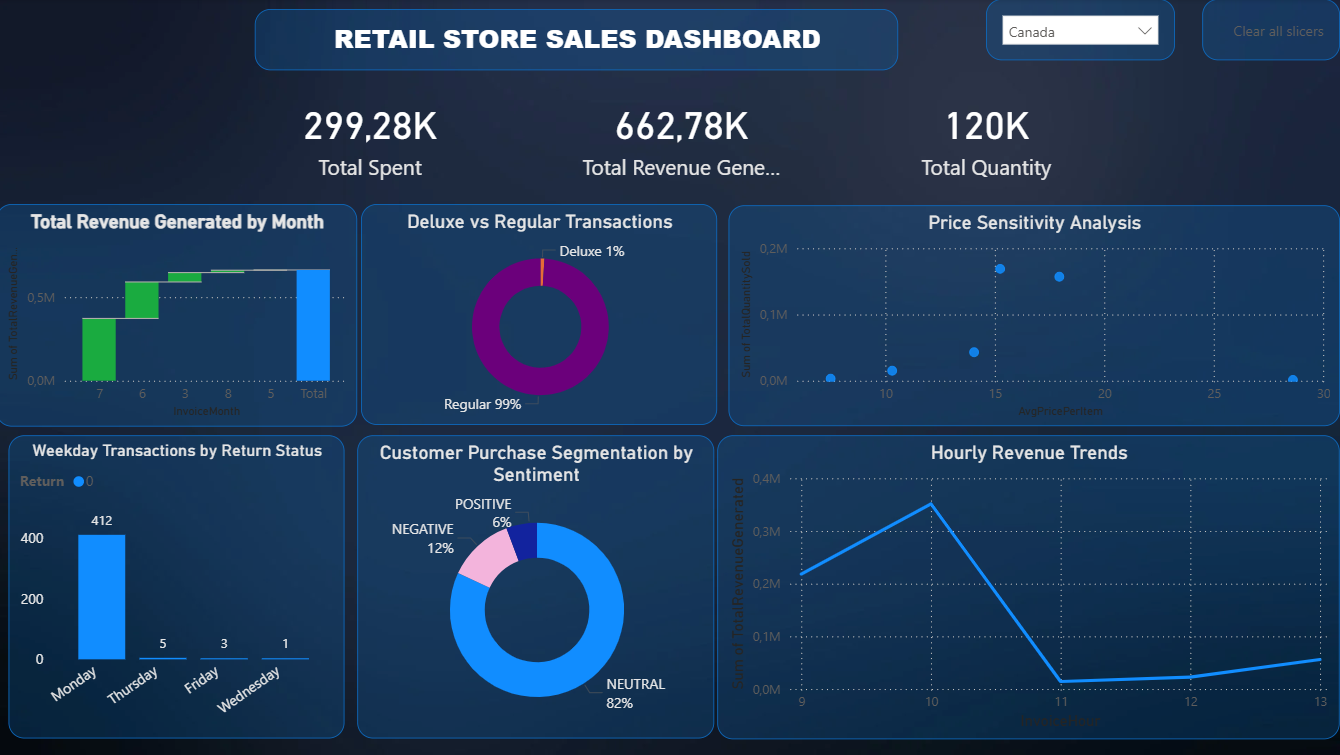

The page's visual inventory and layout, read from the dashboard file:
{"tool":"powerbi","page":{"name":"Page 1","canvas":[1280,720],"ordinal":0},"visuals":[{"type":"textbox","box":[246.4,9.5,613.1,58.3],"z":0},{"type":"card","fields":{"Values":["Sum(data.TotalSpent)"]},"box":[246.4,83.3,220.2,95.2],"z":1000},{"type":"card","fields":{"Values":["Sum(data.TotalRevenueGenerated)"]},"box":[553.6,83.3,198.8,95.2],"z":2000},{"type":"card","fields":{"Values":["Sum(data.TotalQuantity)"]},"box":[821.4,83.3,244,95.2],"z":3000},{"type":"donutChart","title":"Deluxe vs Regular Transactions","fields":{"Series":["data.IsDeluxe"],"Y":["Sum(data.NumTransactions)"]},"box":[347.6,195.2,339.3,210.7],"z":4000},{"type":"donutChart","title":"Customer Purchase Segmentation by Sentiment","fields":{"Y":["Sum(data.NumTransactions)"],"Category":["data.Sentiment"]},"box":[343.8,415,340,288.8],"z":5000},{"type":"clusteredColumnChart","title":"Weekday Transactions by Return Status","fields":{"Y":["Sum(data.NumTransactions)"],"Series":["data.IsReturn"],"Category":["data.InvoiceDayOfWeekName"]},"box":[12.5,415,320,288.8],"z":6000},{"type":"slicer","fields":{"Values":["data.Country"]},"box":[942.9,0,179.8,58.3],"z":9000},{"type":"actionButton","box":[1148.8,0,131,58.3],"z":10000},{"type":"waterfallChart","title":"Total Revenue Generated by Month","fields":{"Category":["data.InvoiceMonth"],"Y":["Sum(data.TotalRevenueGenerated)"]},"box":[0,195.2,344,211.9],"z":12001},{"type":"lineChart","title":"Hourly Revenue Trends","fields":{"Category":["data.InvoiceHour"],"Y":["Sum(data.TotalRevenueGenerated)"]},"box":[686.9,415.5,592.9,289.3],"z":12002},{"type":"scatterChart","title":"Price Sensitivity Analysis","fields":{"Y":["Sum(data.TotalQuantitySold)"],"X":["data.AvgPricePerItem"]},"box":[697.6,196.4,582.1,210.7],"z":12005}]}

Visuals, with their boxes in screenshot pixels (x1, y1, x2, y2), scaled from the page's 1280x720 canvas onto the 1340x755 screenshot:
textbox: (258, 10, 900, 71)
card - Sum(data.TotalSpent): (258, 87, 488, 187)
card - Sum(data.TotalRevenueGenerated): (580, 87, 788, 187)
card - Sum(data.TotalQuantity): (860, 87, 1115, 187)
"Deluxe vs Regular Transactions" donutChart: (364, 205, 719, 426)
"Customer Purchase Segmentation by Sentiment" donutChart: (360, 435, 716, 738)
"Weekday Transactions by Return Status" clusteredColumnChart: (13, 435, 348, 738)
slicer - data.Country: (987, 0, 1175, 61)
actionButton: (1203, 0, 1339, 61)
"Total Revenue Generated by Month" waterfallChart: (0, 205, 360, 427)
"Hourly Revenue Trends" lineChart: (719, 436, 1339, 739)
"Price Sensitivity Analysis" scatterChart: (730, 206, 1339, 427)
